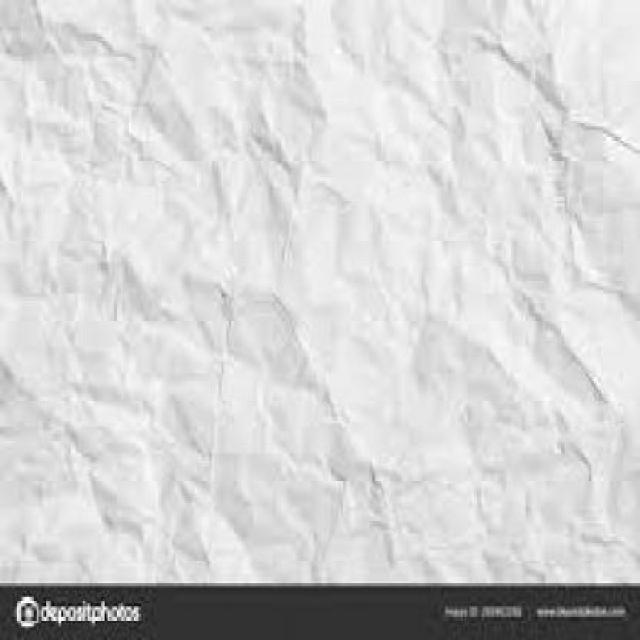paper: (0, 0, 638, 581)
